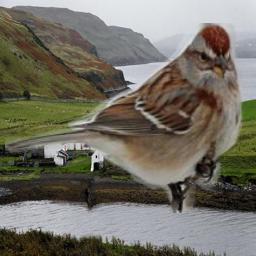Sparrow: (5, 23, 243, 213)
